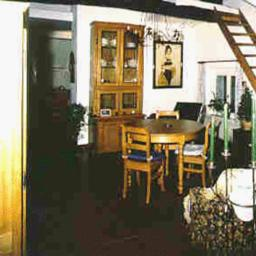Armario: (94, 23, 143, 121)
Matera: (61, 99, 89, 152)
Puerta: (2, 9, 26, 252)
